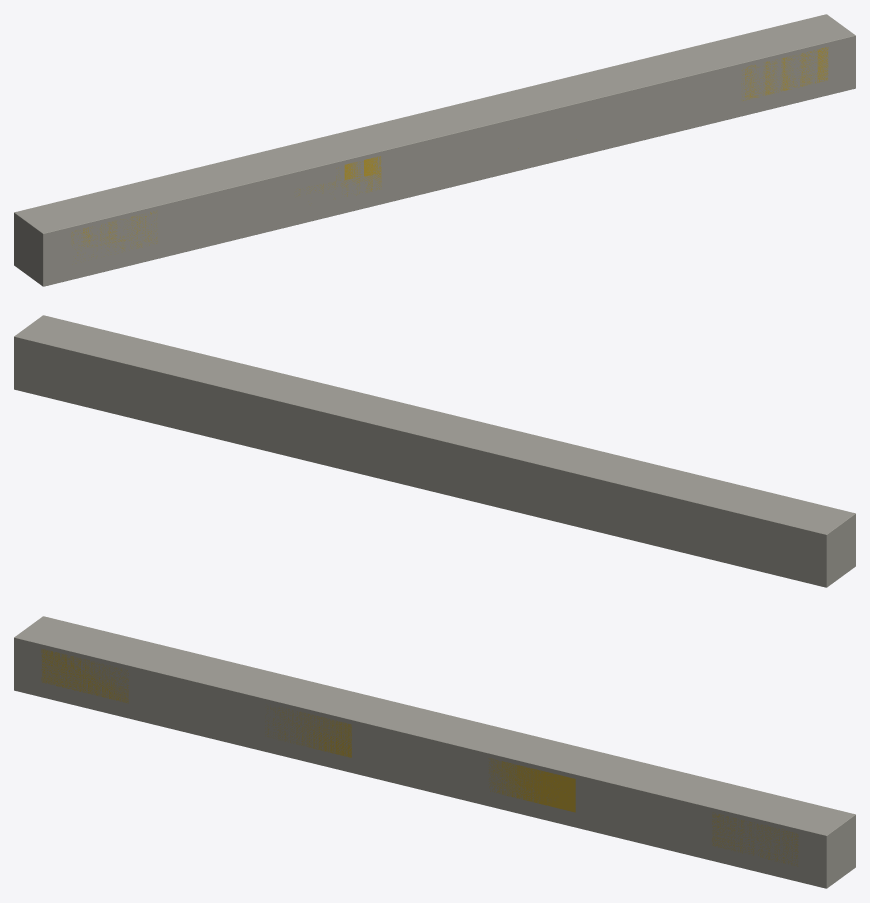
File: SM_LS_Curb.fbx
3 renders of one model, top to bottom at view 1: azimuth 30°, elevation 25°; view 2: azimuth 150°, elevation 25°; view 3: azimuth 330°, elevation 25°, orthographic.
Parts seen in each view (by area): view 1: SM_LS_Curb; view 2: SM_LS_Curb; view 3: SM_LS_Curb.
Part boxes in pixels (x1,y1,x2,y2): SM_LS_Curb: [14, 14, 855, 286]; SM_LS_Curb: [14, 315, 855, 587]; SM_LS_Curb: [14, 616, 855, 888].
Size of what is drawn, in the model's own units: 4 by 0.25 by 0.25.
